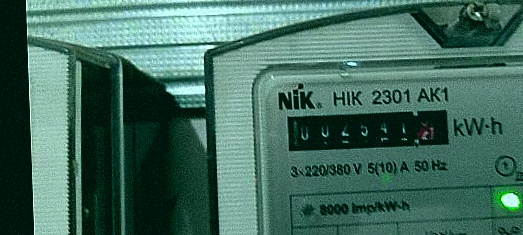0: (296, 120, 310, 141), (317, 117, 330, 138)
1: (396, 115, 408, 136)
2: (337, 117, 350, 138)
4: (377, 115, 390, 136)
5: (356, 116, 369, 138)
6: (419, 126, 430, 142)
screen: (276, 99, 460, 160)
